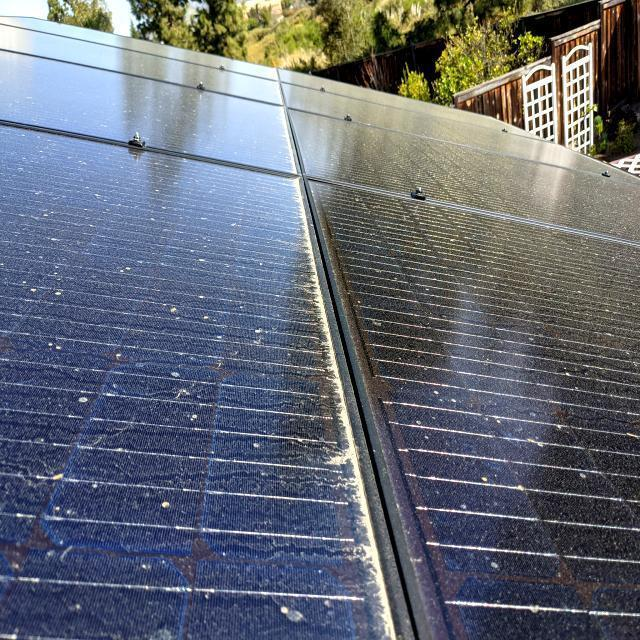soiled: (3, 127, 638, 640)
